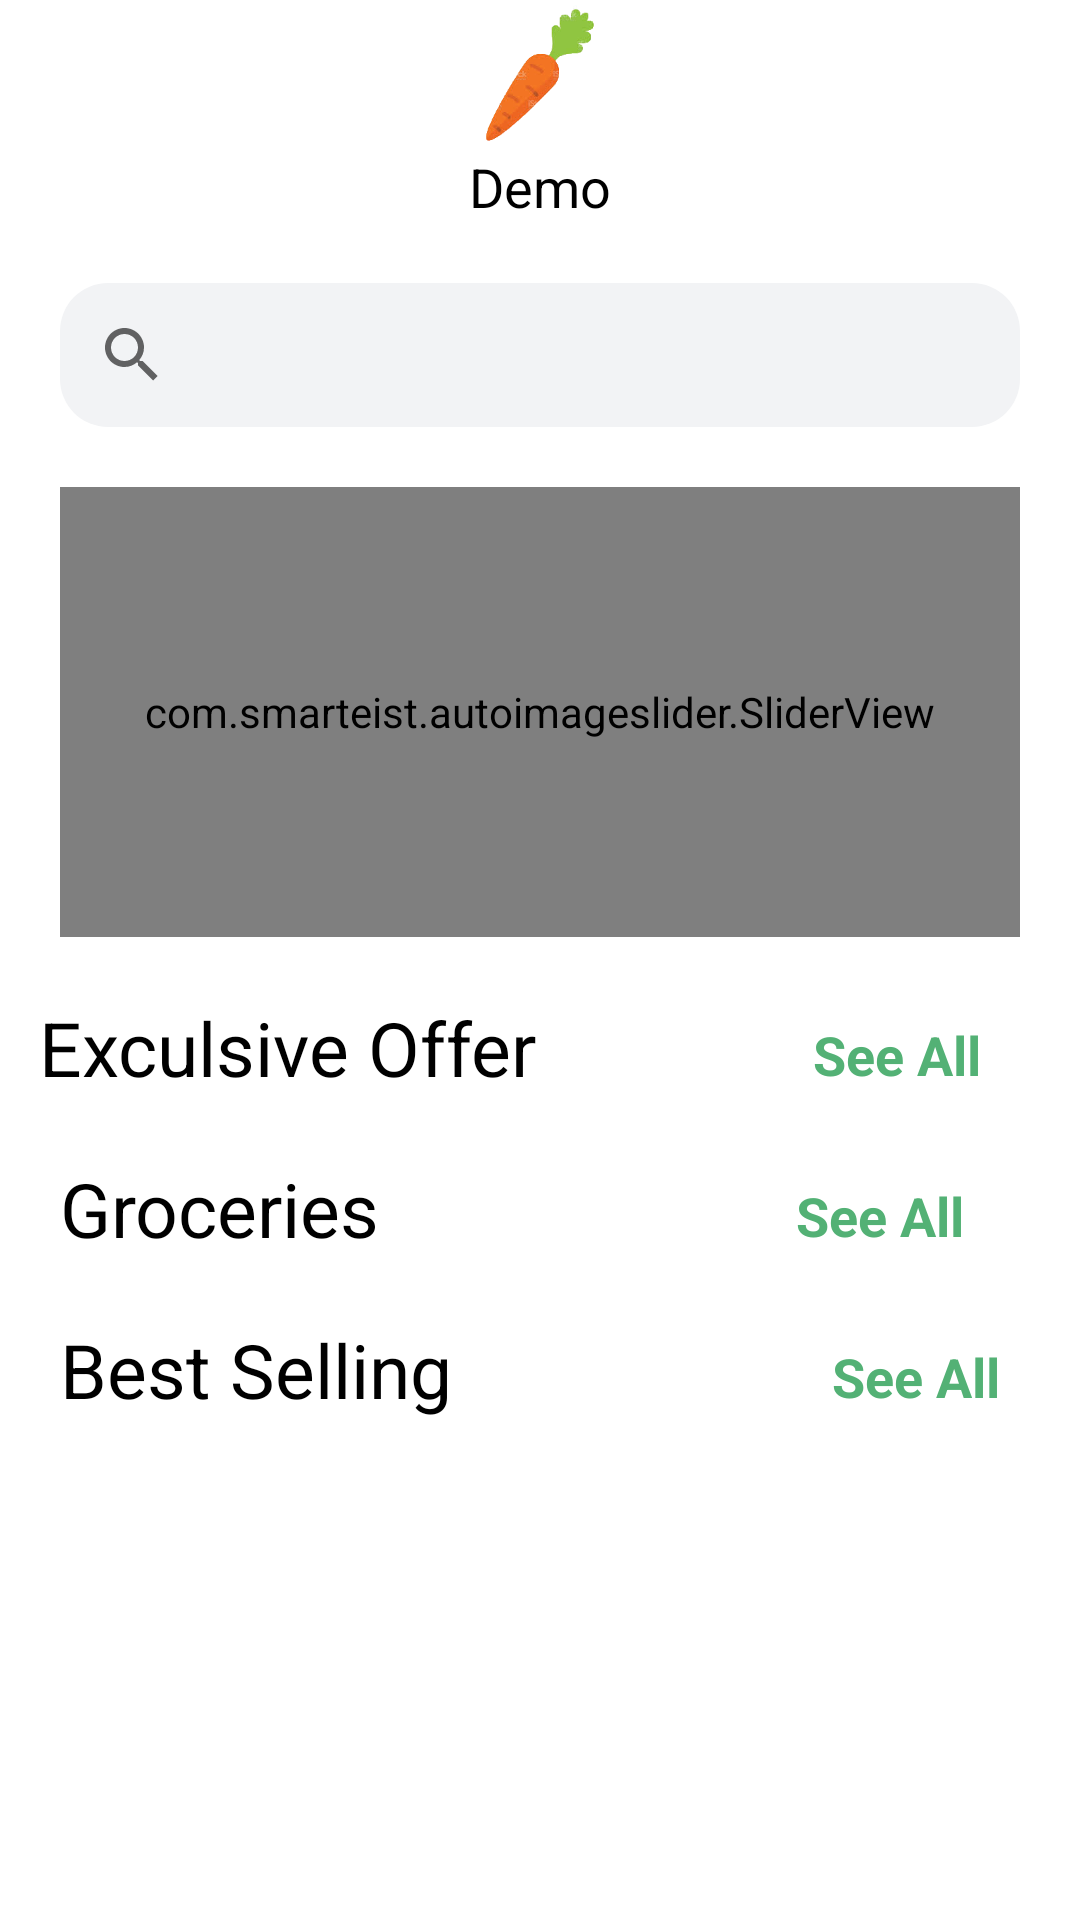

Point at icon controls on the screen. Image size 1080w x 1920h, points as [x,y].
carrot: [540,75]
